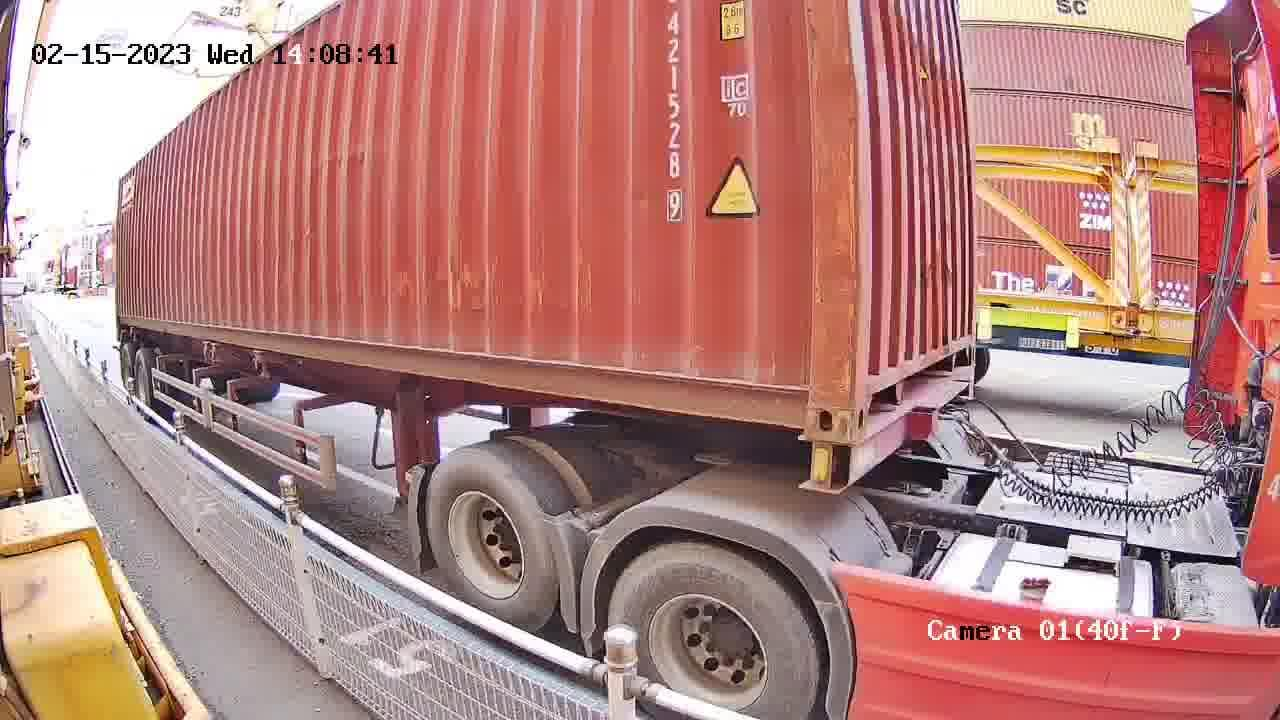Chassis: (850, 363, 976, 488)
Cone: (797, 437, 854, 488)
Hole_L: (854, 343, 897, 440)
Hole_R: (773, 357, 859, 442), (951, 314, 975, 374)
Tire: (608, 546, 819, 719), (423, 454, 559, 629)
